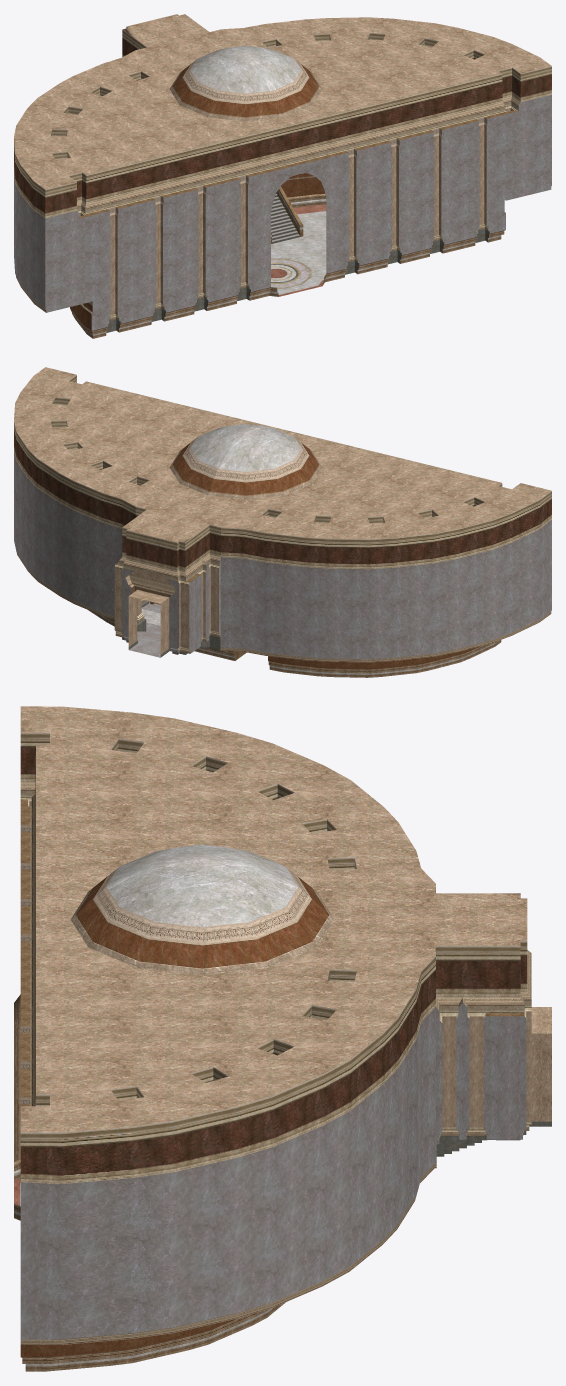
File: thm_nboo_thed_theed_palace_r10_mesh_r10.fbx
3 views of the same model, one above another, from view 1: azimuth 30°, elevation 25°; view 2: azimuth 150°, elevation 25°; view 3: azimuth 270°, elevation 25° (orthographic). The views are drawn at different scales.
Parts seen in each view (by area): view 1: mesh_node; view 2: mesh_node; view 3: mesh_node.
Boxes of the visible parts, x1,y1,x2,y2 form: mesh_node: [14, 14, 551, 338]; mesh_node: [14, 367, 551, 677]; mesh_node: [14, 706, 551, 1371].
Bounding box in the file's own units: 95.29 × 35.54 × 50.83.
